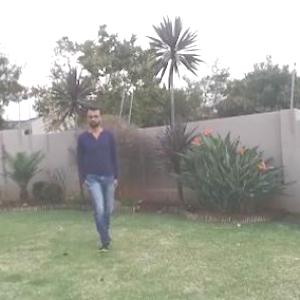follow: (80, 102, 122, 241)
